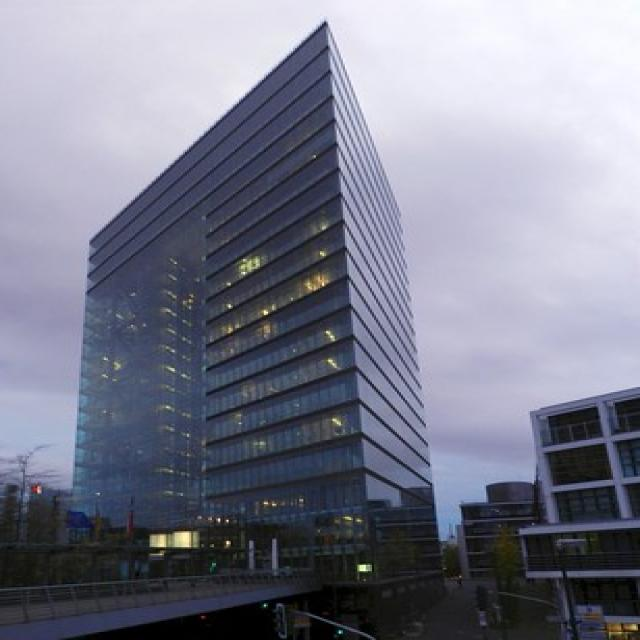building: (63, 13, 450, 592)
